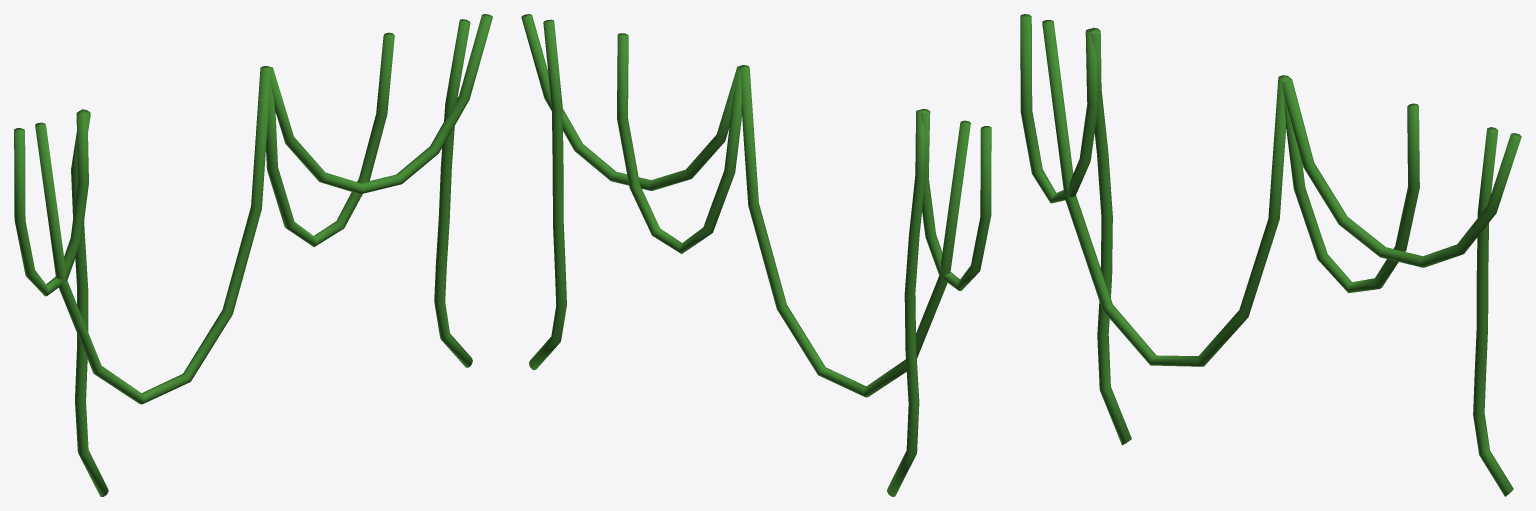
The model's file is Vines2.fbx.
The picture shows the model from 3 angles, left to right: view 1: azimuth 30°, elevation 25°; view 2: azimuth 150°, elevation 25°; view 3: azimuth 330°, elevation 25°; orthographic projection. The views are drawn at different scales.
Visible parts, largest first — view 1: NurbsPath.009, NurbsPath.006, NurbsPath.008, NurbsPath.010, NurbsPath.007, NurbsPath.011; view 2: NurbsPath.009, NurbsPath.008, NurbsPath.011, NurbsPath.007, NurbsPath.006, NurbsPath.010; view 3: NurbsPath.009, NurbsPath.006, NurbsPath.008, NurbsPath.010, NurbsPath.007, NurbsPath.011.
Part boxes in pixels (x1=…): NurbsPath.009: x1=35, y1=66, x2=271, y2=404; NurbsPath.006: x1=270, y1=14, x2=492, y2=193; NurbsPath.008: x1=266, y1=32, x2=394, y2=246; NurbsPath.010: x1=14, y1=111, x2=88, y2=296; NurbsPath.007: x1=434, y1=19, x2=472, y2=367; NurbsPath.011: x1=71, y1=109, x2=108, y2=496; NurbsPath.009: x1=739, y1=65, x2=970, y2=397; NurbsPath.008: x1=617, y1=33, x2=741, y2=253; NurbsPath.011: x1=887, y1=110, x2=926, y2=496; NurbsPath.007: x1=529, y1=19, x2=566, y2=370; NurbsPath.006: x1=521, y1=14, x2=739, y2=190; NurbsPath.010: x1=919, y1=109, x2=991, y2=290; NurbsPath.009: x1=1042, y1=20, x2=1289, y2=366; NurbsPath.006: x1=1282, y1=78, x2=1521, y2=267; NurbsPath.008: x1=1282, y1=78, x2=1419, y2=293; NurbsPath.010: x1=1020, y1=14, x2=1098, y2=203; NurbsPath.007: x1=1473, y1=127, x2=1513, y2=496; NurbsPath.011: x1=1089, y1=27, x2=1131, y2=445.
Bounding box in the file's own units: 364 × 289 × 17.48.
